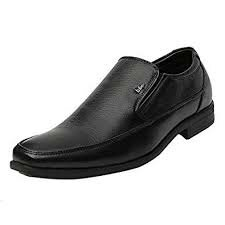Formal: (7, 45, 218, 180)
